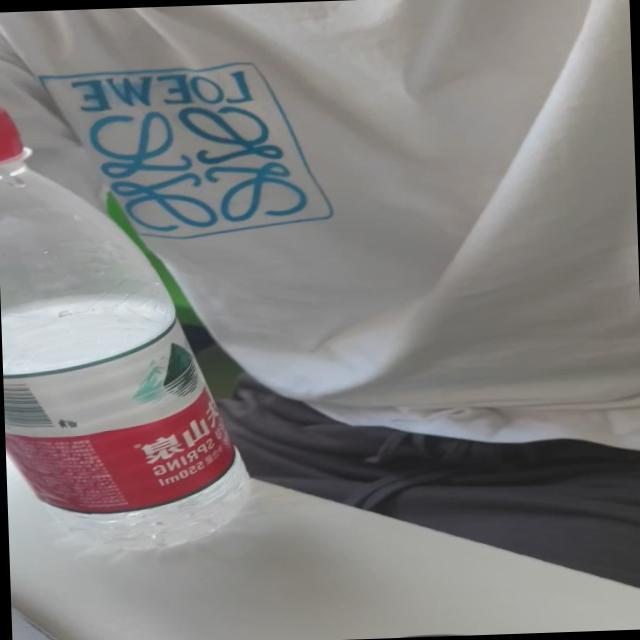good: (0, 91, 260, 574)
